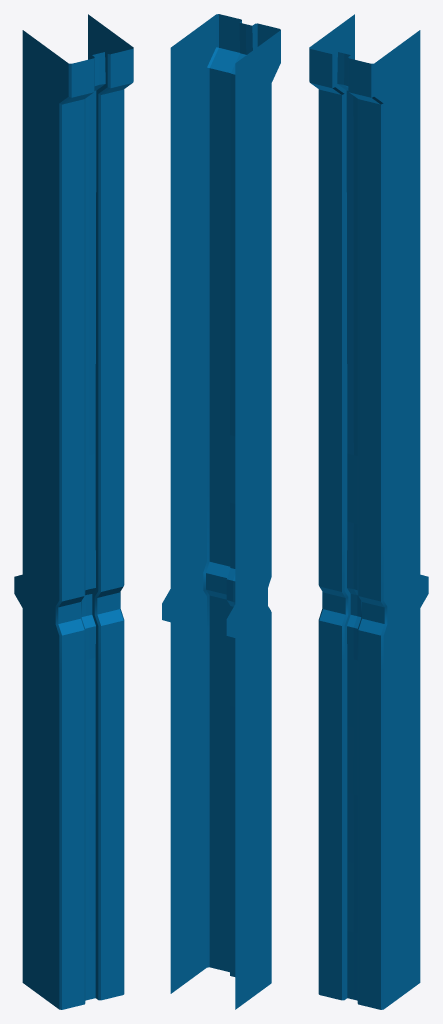
The model's file is M_Wall_Seperator_1x14.fbx.
3 renders of one model, left to right at view 1: azimuth 30°, elevation 25°; view 2: azimuth 150°, elevation 25°; view 3: azimuth 330°, elevation 25°, orthographic.
Visible parts, largest first — view 1: Wall_Seperator_1x14; view 2: Wall_Seperator_1x14; view 3: Wall_Seperator_1x14.
Part boxes in pixels (box(x1,y1,x2,y2)): Wall_Seperator_1x14: box(14, 14, 133, 1009); Wall_Seperator_1x14: box(162, 14, 280, 1009); Wall_Seperator_1x14: box(309, 14, 428, 1009).
Bounding box in the file's own units: 100 × 1400 × 148.
